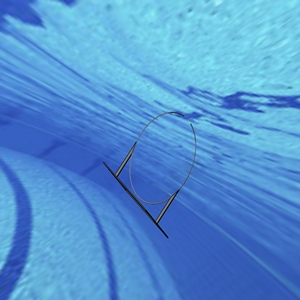circle: (102, 109, 198, 237)
